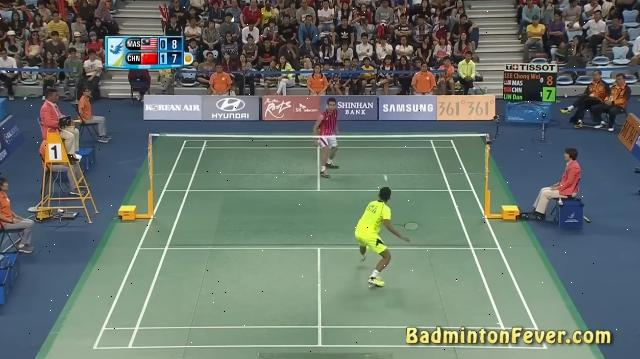Shuttlecock: (382, 172, 391, 184)
